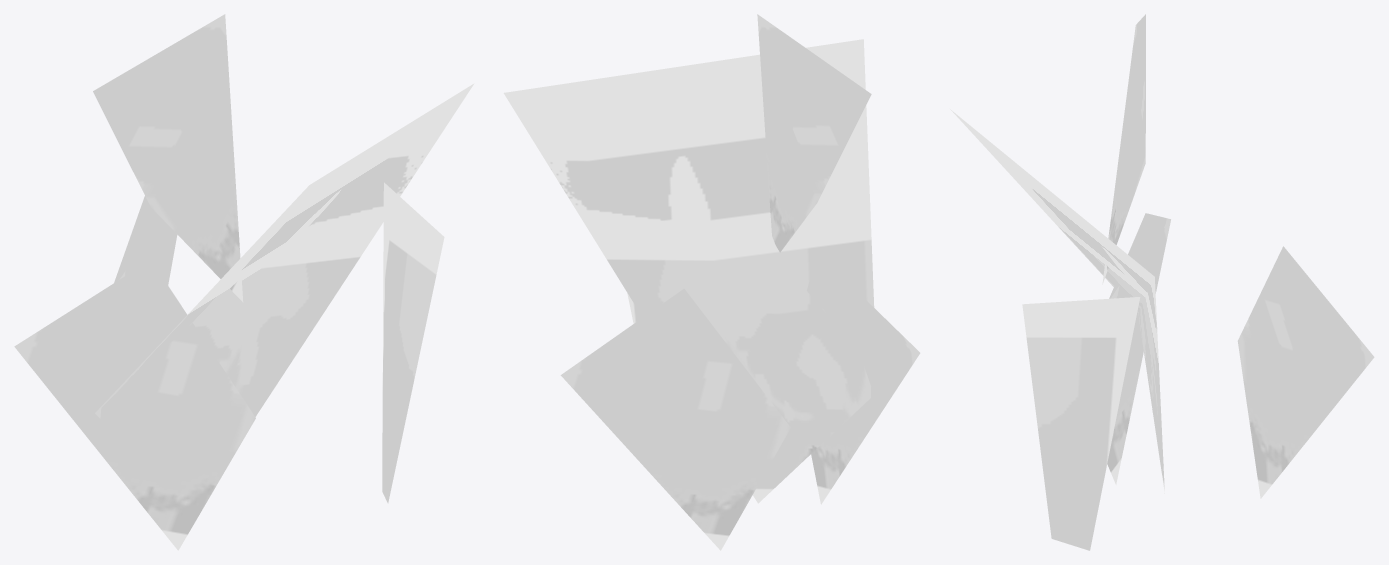
File: GrassMeadows4.fbx
The picture shows the model from 3 angles, left to right: view 1: azimuth 30°, elevation 25°; view 2: azimuth 150°, elevation 25°; view 3: azimuth 270°, elevation 25°; orthographic projection. The views are drawn at different scales.
Parts seen in each view (by area): view 1: GrassMeadows4; view 2: GrassMeadows4; view 3: GrassMeadows4.
Boxes of the visible parts, left/top/right/bottom form: GrassMeadows4: left=14, top=14, right=474, bottom=550; GrassMeadows4: left=503, top=14, right=920, bottom=550; GrassMeadows4: left=950, top=14, right=1374, bottom=550.
Size of the model in its own units: 44.16 by 48.14 by 38.1.
